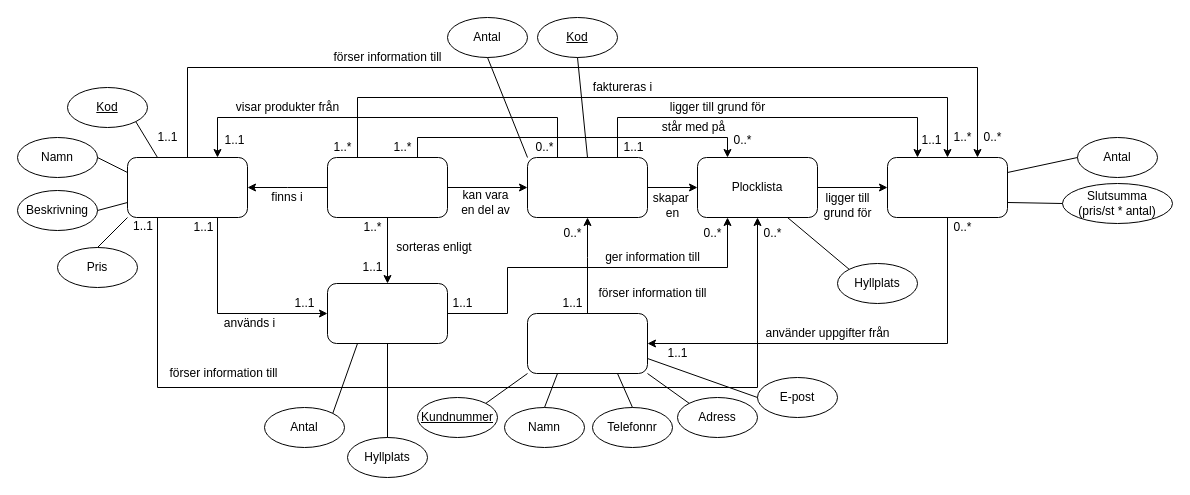
This 1190x495 diagram has some shape labels left out. The box of each missing label's shape, as (x1, y1, x2, y2) in pixels:
Faktura: (886, 156, 1008, 218)
Kaffe, Kaffetillbehör, Te-produkter: (326, 156, 448, 218)
Kundregister: (526, 312, 648, 374)
Lagerregister: (326, 282, 448, 344)
Order: (526, 156, 648, 218)
Produktregister: (126, 156, 248, 218)
